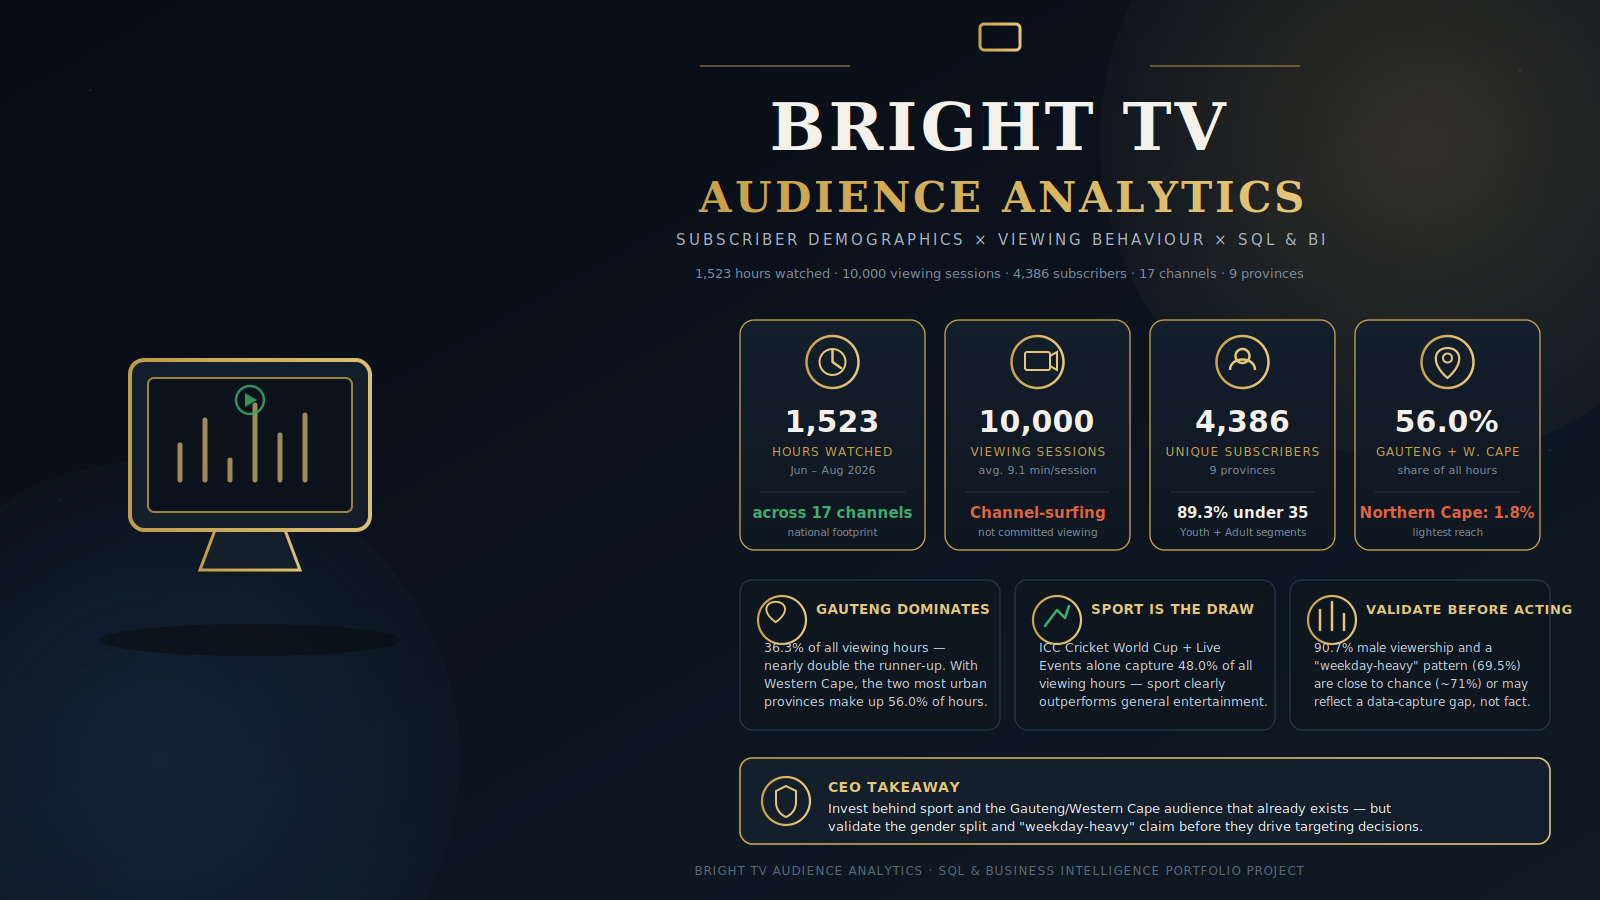

Layout of this report page (visuals, bound fields, positions):
{"tool":"powerbi","page":{"name":"Page 3","canvas":[1920,1080],"ordinal":2},"visuals":[{"type":"textbox","box":[0,72,1656,888],"z":0}]}

Visuals, with their boxes in screenshot pixels (x1, y1, x2, y2), scaled from the page's 1920x1080 canvas onto the 1600x900 screenshot:
textbox: {"left": 0, "top": 60, "right": 1380, "bottom": 800}
